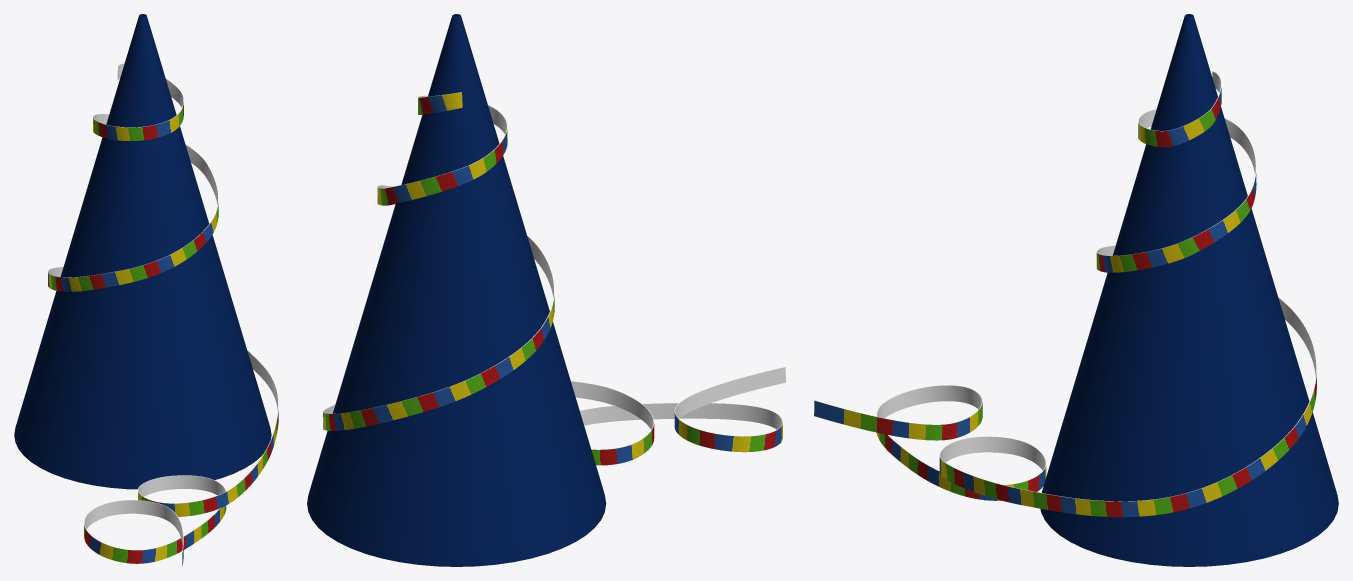
File: cgaxis_models_13_02_fbx.fbx
3 renders of one model, left to right at view 1: azimuth 30°, elevation 25°; view 2: azimuth 150°, elevation 25°; view 3: azimuth 270°, elevation 25°, orthographic. The views are drawn at different scales.
Visible parts, largest first — view 1: cgaxis_models_13_02_02, cgaxis_models_13_02_01; view 2: cgaxis_models_13_02_02, cgaxis_models_13_02_01; view 3: cgaxis_models_13_02_02, cgaxis_models_13_02_01.
Part boxes in pixels (bbox=[...]): cgaxis_models_13_02_02: bbox=[14, 14, 271, 489]; cgaxis_models_13_02_01: bbox=[48, 63, 278, 566]; cgaxis_models_13_02_02: bbox=[307, 14, 606, 566]; cgaxis_models_13_02_01: bbox=[323, 92, 785, 465]; cgaxis_models_13_02_02: bbox=[1040, 14, 1338, 566]; cgaxis_models_13_02_01: bbox=[814, 71, 1316, 517].
Bounding box in the file's own units: 4.86 × 7.09 × 6.91.
Materials: 2 (1 with a texture image).
